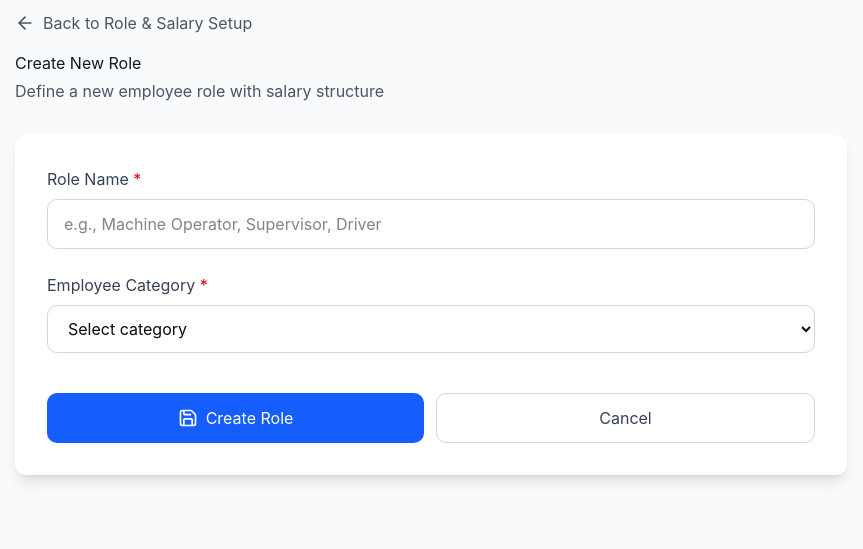
Test case: CreateRoleScreen › validation › asks for a name and a category, and does not contact the server
Click the button "Create Role" at (236, 418), box 47,393 -> 424,443
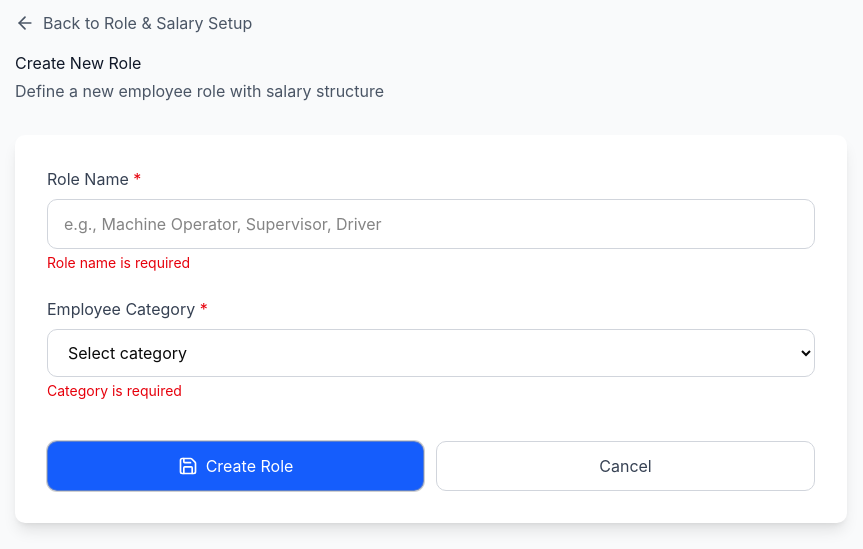
Now the text "Role name is required" is shown, box 47,254 -> 190,271
Now the text "Category is required" is shown, box 47,382 -> 182,399
